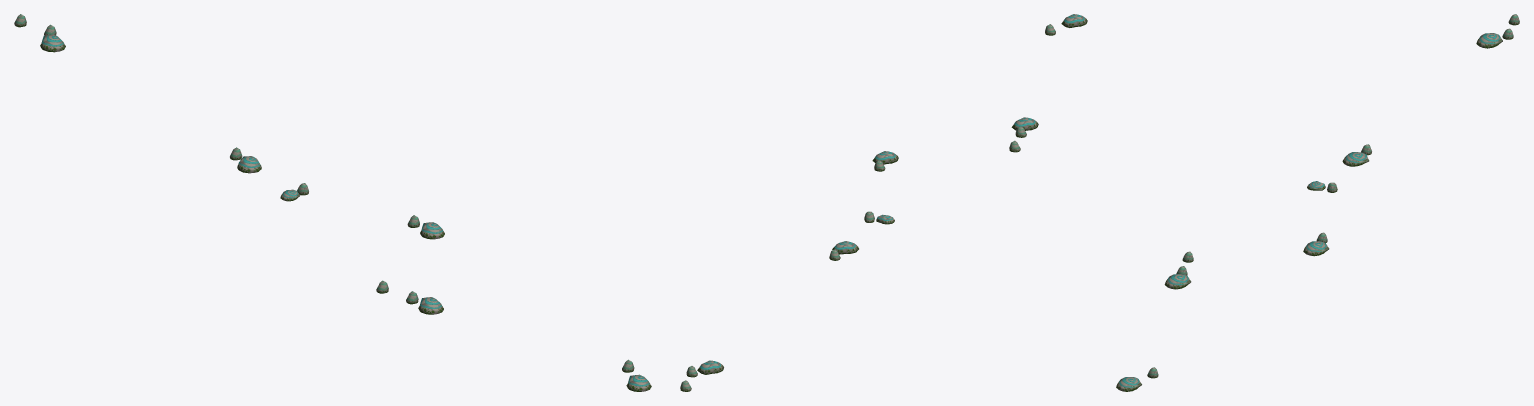
Rendered from stoneE.fbx.
The picture shows the model from 3 angles, left to right: view 1: azimuth 30°, elevation 25°; view 2: azimuth 150°, elevation 25°; view 3: azimuth 330°, elevation 25°; orthographic projection. The views are drawn at different scales.
Visible parts, largest first — view 1: stoneE; view 2: stoneE; view 3: stoneE.
Part boxes in pixels (left/top/right/bottom): stoneE: left=14, top=14, right=651, bottom=391; stoneE: left=680, top=14, right=1087, bottom=391; stoneE: left=1116, top=14, right=1519, bottom=391.
Size of the model in its own units: 573 by 45.97 by 4544.
